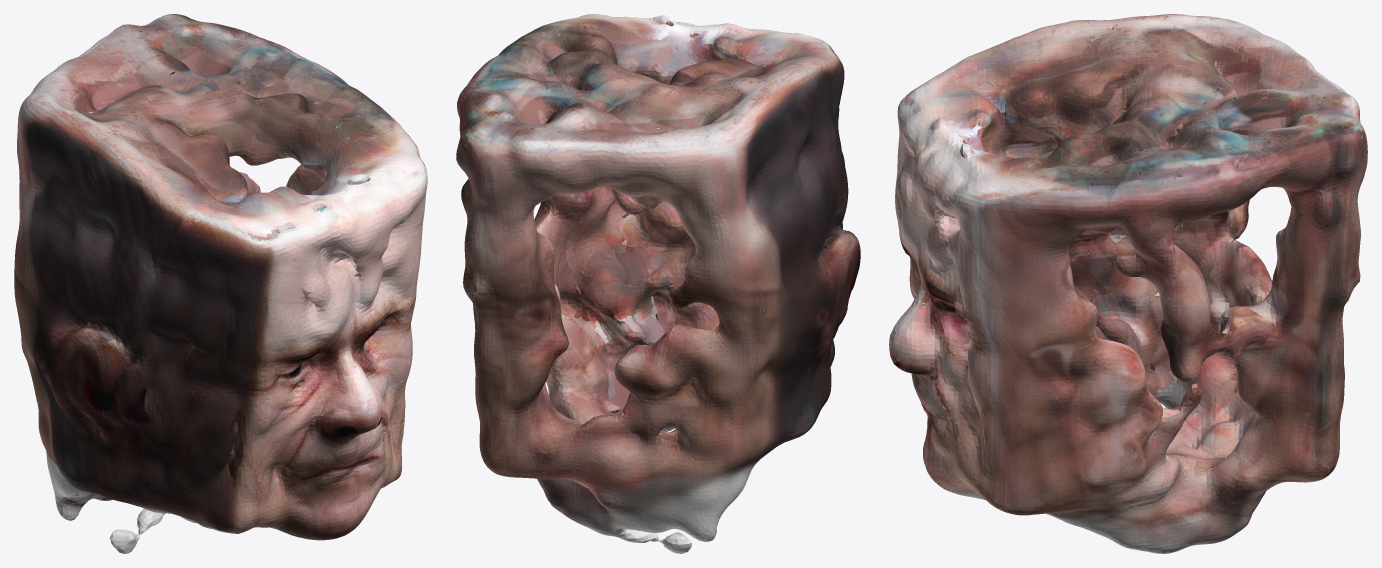
3 renders of one model, left to right at view 1: azimuth 30°, elevation 25°; view 2: azimuth 150°, elevation 25°; view 3: azimuth 270°, elevation 25°, orthographic. The views are drawn at different scales.
Size of the model in its own units: 1.05 by 1.4 by 1.28.
Materials: 1 (1 with a texture image).
